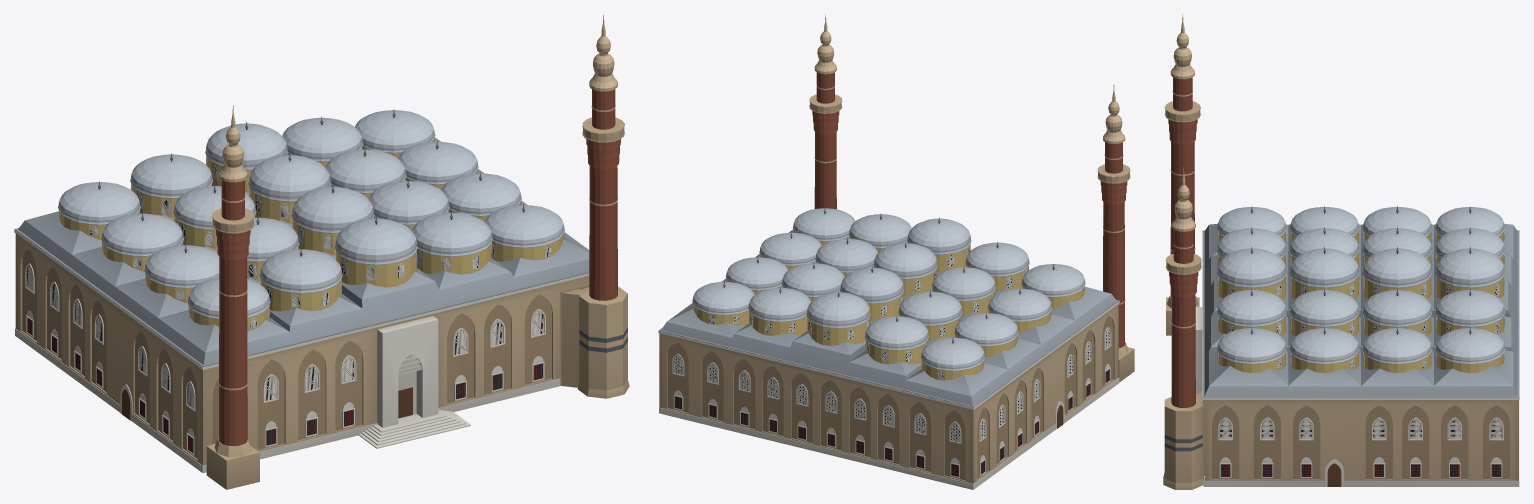
Rendered from ulu-cami_v02c.glb.
The picture shows the model from 3 angles, left to right: view 1: azimuth 30°, elevation 25°; view 2: azimuth 150°, elevation 25°; view 3: azimuth 270°, elevation 25°; orthographic projection. The views are drawn at different scales.
Visible parts, largest first — view 1: Kubbeler_19, Cephe_Kuzey, Cati, Cephe_Dogu, Minare_1, Minare_2, Tac_Kapi, Sadirvan_Kubbe, Mermer_Bant, Kasnak_Pencereleri, Silme_Ust; view 2: Kubbeler_19, Cephe_Guney, Cati, Cephe_Dogu, Minare_2, Minare_1, Mermer_Bant, Sadirvan_Kubbe, Kasnak_Pencereleri, Silme_Ust; view 3: Kubbeler_19, Cephe_Bati, Cati, Minare_1, Minare_2, Sadirvan_Kubbe, Mermer_Bant, Kasnak_Pencereleri, Silme_Ust, Tac_Kapi, Govde, Kapi_Bati.
Part boxes in pixels (left/top/right/bottom): Kubbeler_19: left=58, top=110, right=564, bottom=331; Cephe_Kuzey: left=202, top=276, right=589, bottom=465; Cati: left=14, top=137, right=589, bottom=367; Cephe_Dogu: left=16, top=234, right=201, bottom=464; Minare_1: left=561, top=15, right=629, bottom=398; Minare_2: left=206, top=105, right=259, bottom=489; Tac_Kapi: left=358, top=316, right=470, bottom=448; Sadirvan_Kubbe: left=291, top=186, right=374, bottom=255; Mermer_Bant: left=15, top=328, right=560, bottom=472; Kasnak_Pencereleri: left=89, top=148, right=551, bottom=329; Silme_Ust: left=14, top=230, right=589, bottom=369; Kubbeler_19: left=692, top=208, right=1085, bottom=380; Cephe_Guney: left=659, top=333, right=973, bottom=483; Cati: left=658, top=229, right=1119, bottom=407; Cephe_Dogu: left=974, top=304, right=1117, bottom=483; Minare_2: left=1097, top=85, right=1134, bottom=382; Minare_1: left=809, top=14, right=842, bottom=209; Mermer_Bant: left=659, top=377, right=1119, bottom=489; Sadirvan_Kubbe: left=873, top=243, right=937, bottom=296; Kasnak_Pencereleri: left=709, top=247, right=1027, bottom=379; Silme_Ust: left=658, top=301, right=1119, bottom=409; Kubbeler_19: left=1217, top=206, right=1505, bottom=373; Cephe_Bati: left=1204, top=400, right=1517, bottom=480; Cati: left=1202, top=223, right=1519, bottom=397; Minare_1: left=1163, top=167, right=1204, bottom=489; Minare_2: left=1164, top=14, right=1200, bottom=335; Sadirvan_Kubbe: left=1289, top=248, right=1359, bottom=298; Mermer_Bant: left=1203, top=400, right=1519, bottom=486; Kasnak_Pencereleri: left=1217, top=231, right=1504, bottom=368; Silme_Ust: left=1202, top=231, right=1519, bottom=399; Tac_Kapi: left=1195, top=307, right=1202, bottom=394; Govde: left=1212, top=418, right=1510, bottom=478; Kapi_Bati: left=1325, top=459, right=1344, bottom=486.
Bounding box in the file's own units: 70.31 × 61.1 × 62.7.
Materials: 13 (2 with a texture image).
